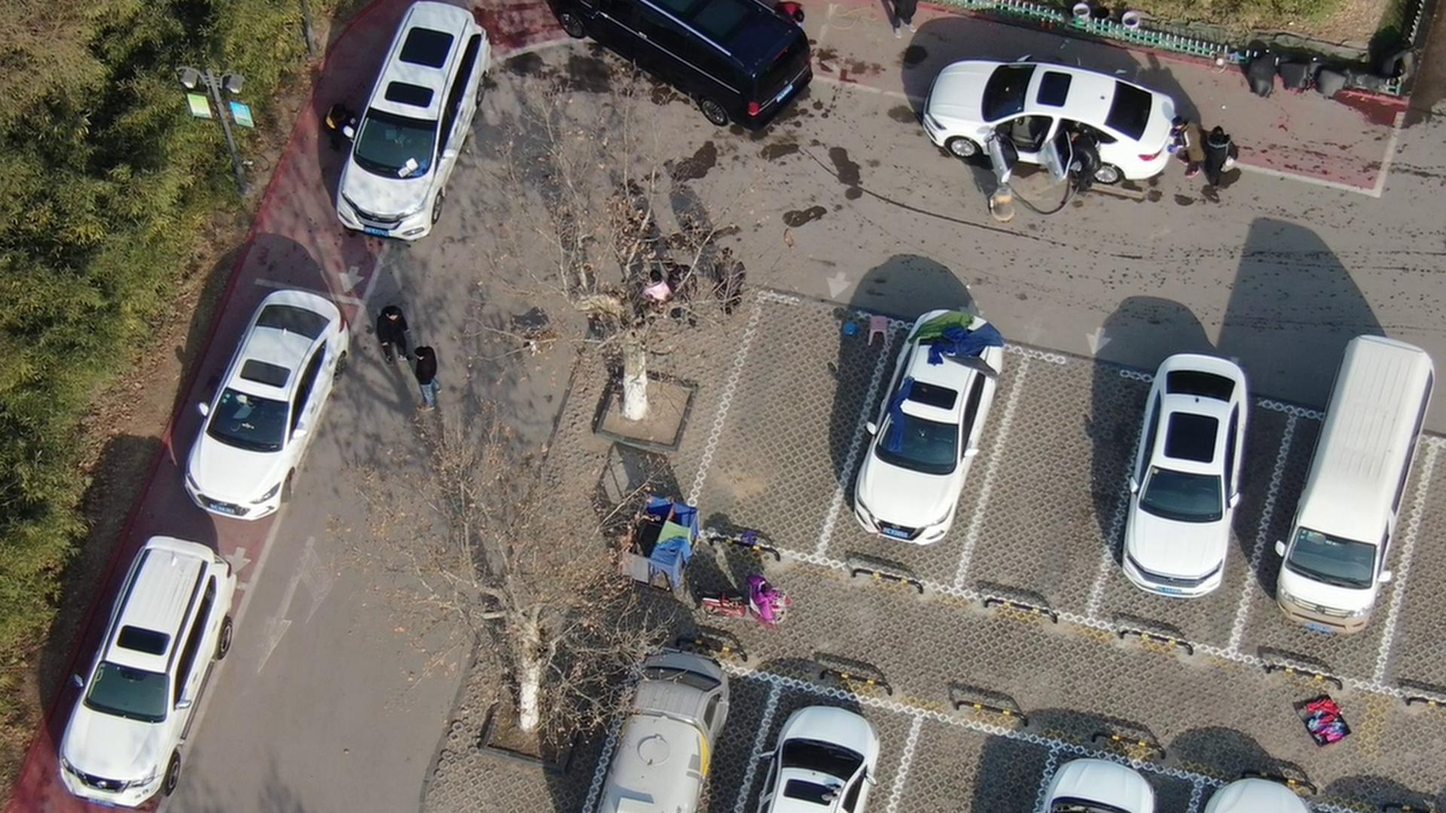human: (711, 247, 752, 321), (1076, 123, 1109, 206), (665, 262, 703, 333), (1208, 121, 1243, 196), (377, 302, 416, 368), (1173, 108, 1210, 177), (413, 343, 443, 416), (331, 102, 365, 152)
